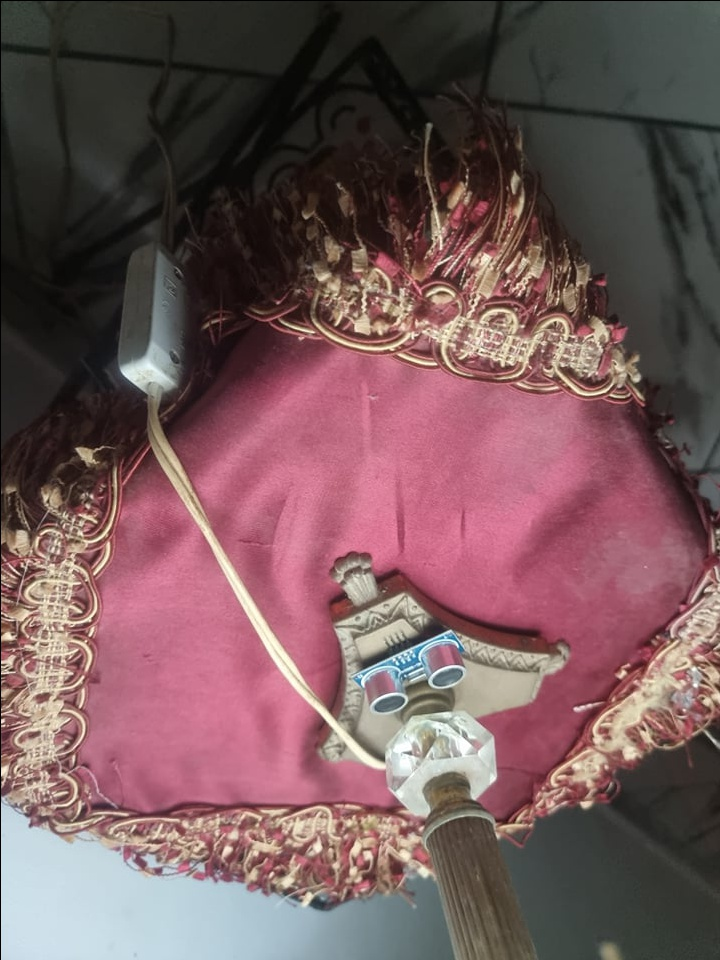SENSOR: (349, 625, 477, 715)
